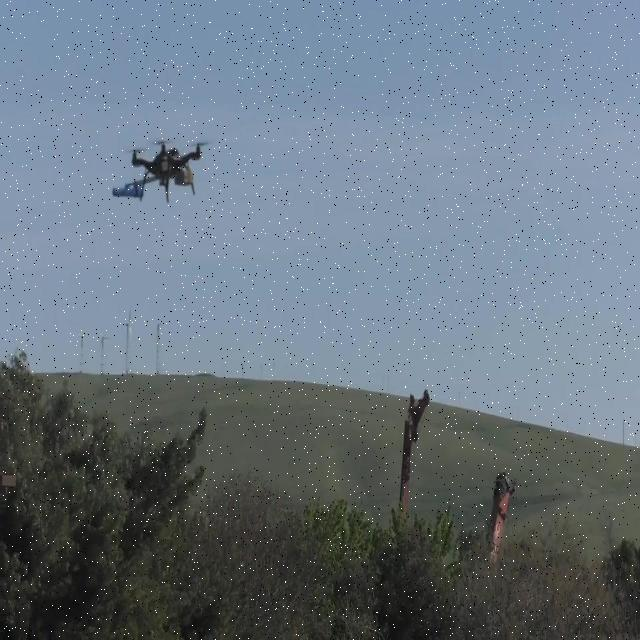UAV: (112, 140, 212, 203)
